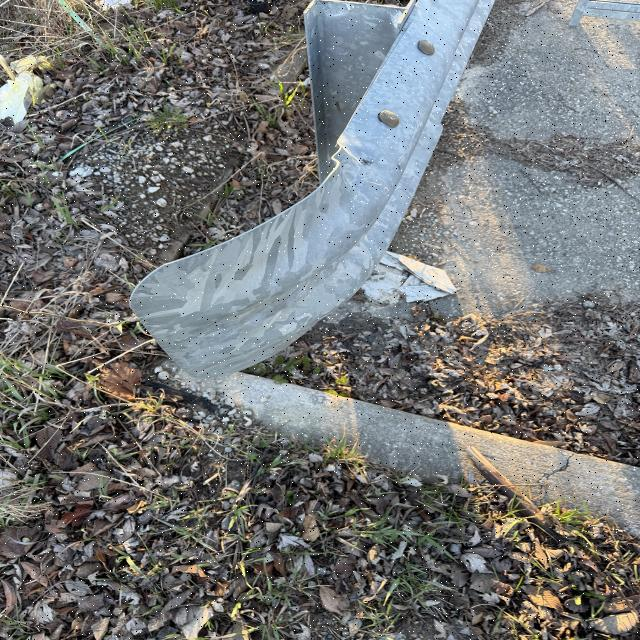Guard rail: (151, 8, 501, 346)
